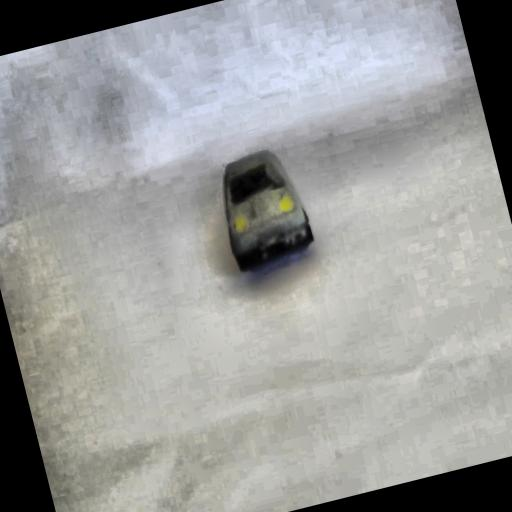normal_car: (206, 139, 321, 276)
